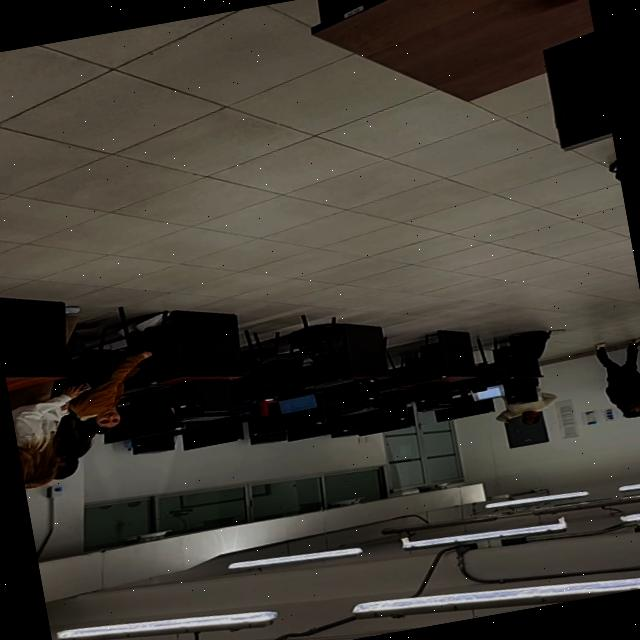Persona: (9, 393, 76, 488), (486, 372, 568, 438), (589, 335, 640, 430)
